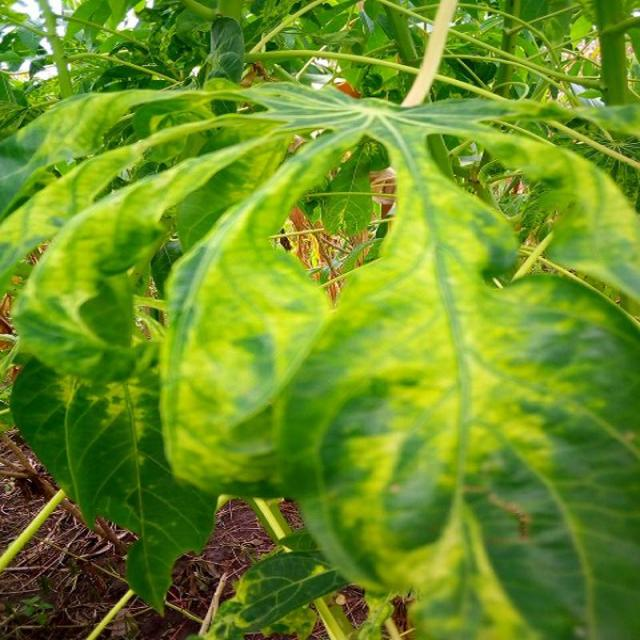cassava leaf: (1, 67, 638, 637)
